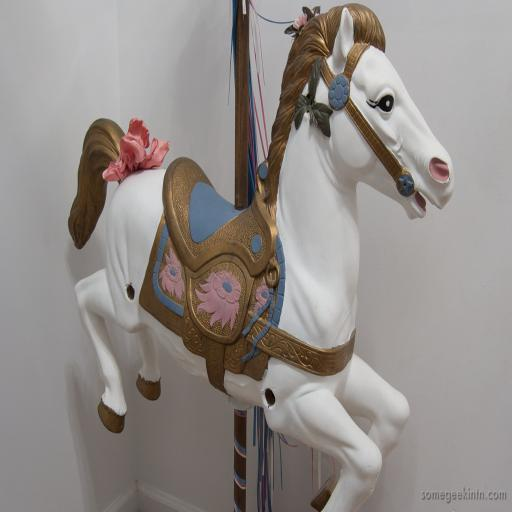Horse: (66, 0, 456, 512)
